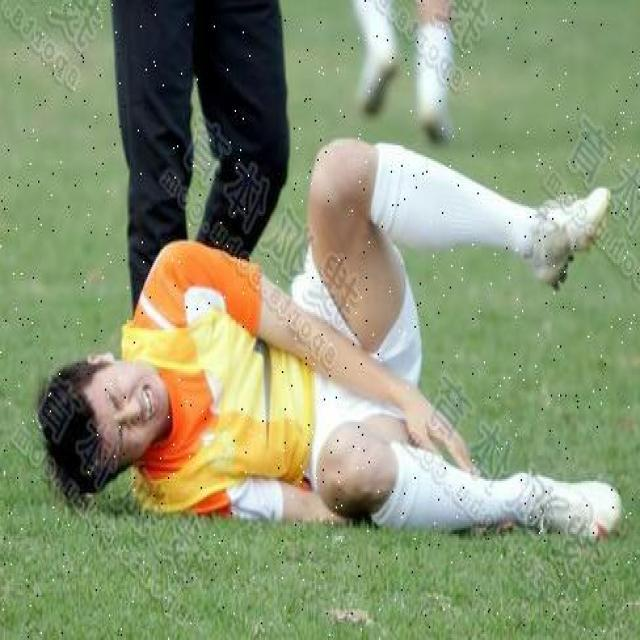fall: (61, 169, 614, 532)
